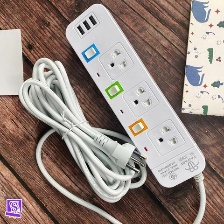three_eye_plug: (57, 0, 208, 192)
